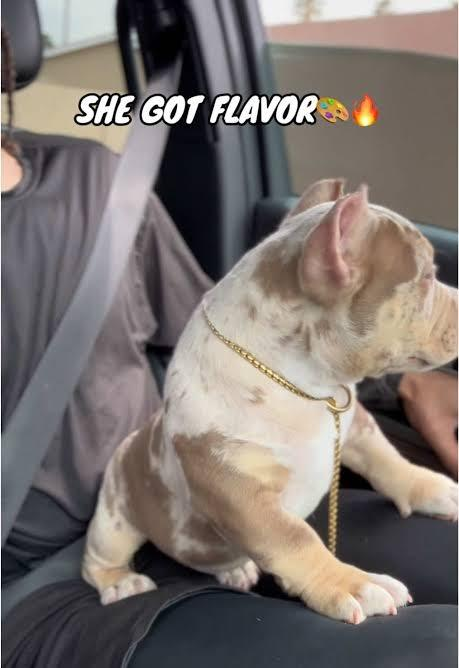non-dog: (0, 99, 459, 668)
puppy-dog: (81, 177, 459, 627)
